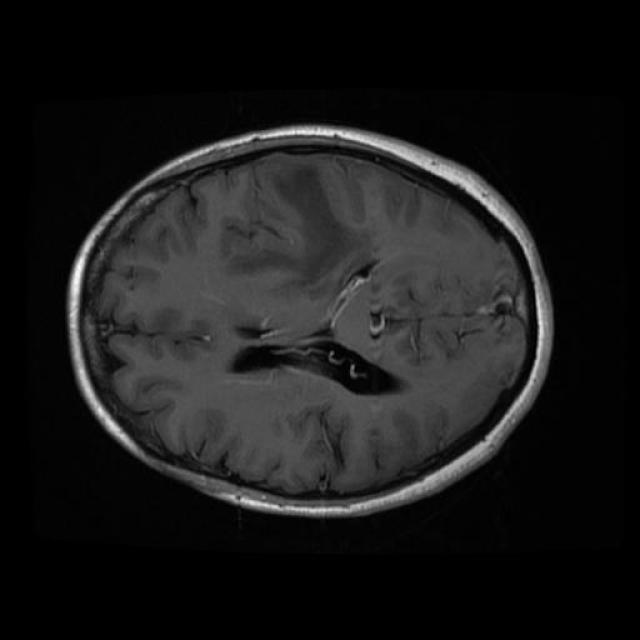Glioma: (221, 154, 360, 283)
